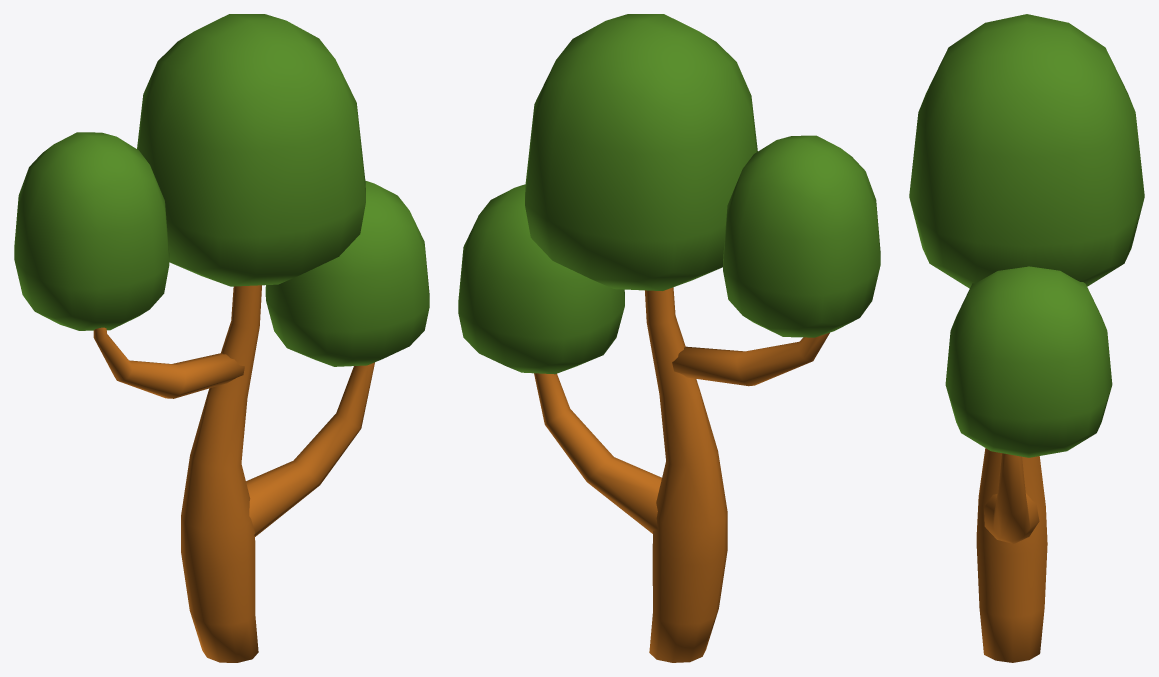
Rendered from Tree_28_Spring.fbx.
The picture shows the model from 3 angles, left to right: view 1: azimuth 30°, elevation 25°; view 2: azimuth 150°, elevation 25°; view 3: azimuth 270°, elevation 25°; orthographic projection. The views are drawn at different scales.
Visible parts, largest first — view 1: Tree_28_p2_Spring, Tree_28_p1_Spring; view 2: Tree_28_p2_Spring, Tree_28_p1_Spring; view 3: Tree_28_p2_Spring, Tree_28_p1_Spring.
Part boxes in pixels (x1,y1,x2,y2): Tree_28_p2_Spring: (14, 14, 429, 366); Tree_28_p1_Spring: (93, 285, 374, 662); Tree_28_p2_Spring: (458, 14, 880, 374); Tree_28_p1_Spring: (534, 287, 829, 662); Tree_28_p2_Spring: (909, 14, 1144, 457); Tree_28_p1_Spring: (976, 448, 1047, 662).
Size of the model in its own units: 426 by 643 by 214.
